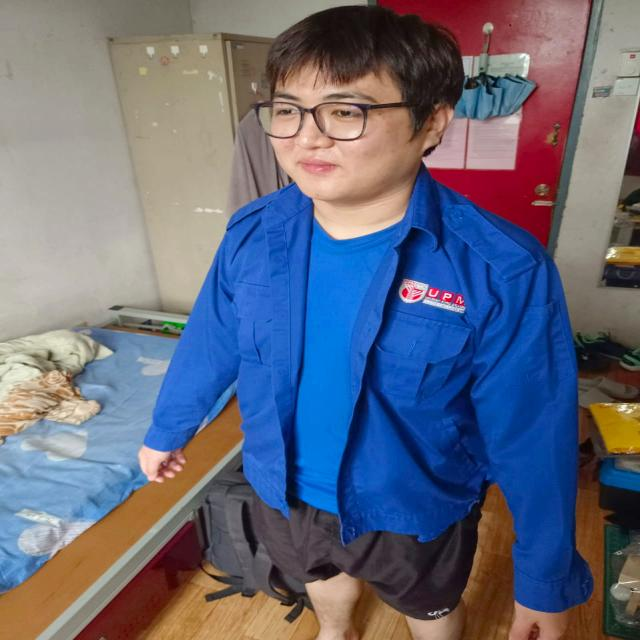person_with_labcoat: (140, 7, 593, 640)
